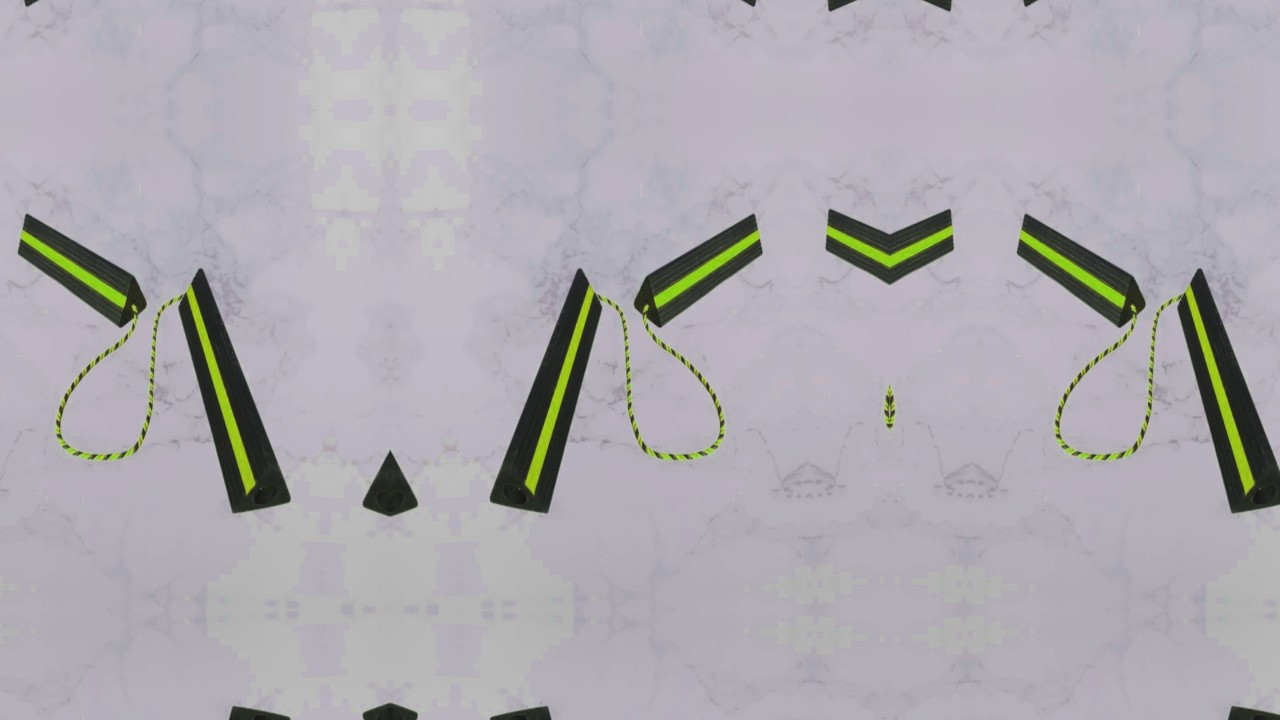chock: (165, 263, 308, 521), (472, 263, 615, 521), (1165, 263, 1280, 521), (12, 211, 151, 329), (629, 211, 768, 329), (1012, 211, 1151, 329), (823, 199, 890, 318), (890, 199, 957, 318), (823, 0, 890, 21), (890, 0, 957, 21)
